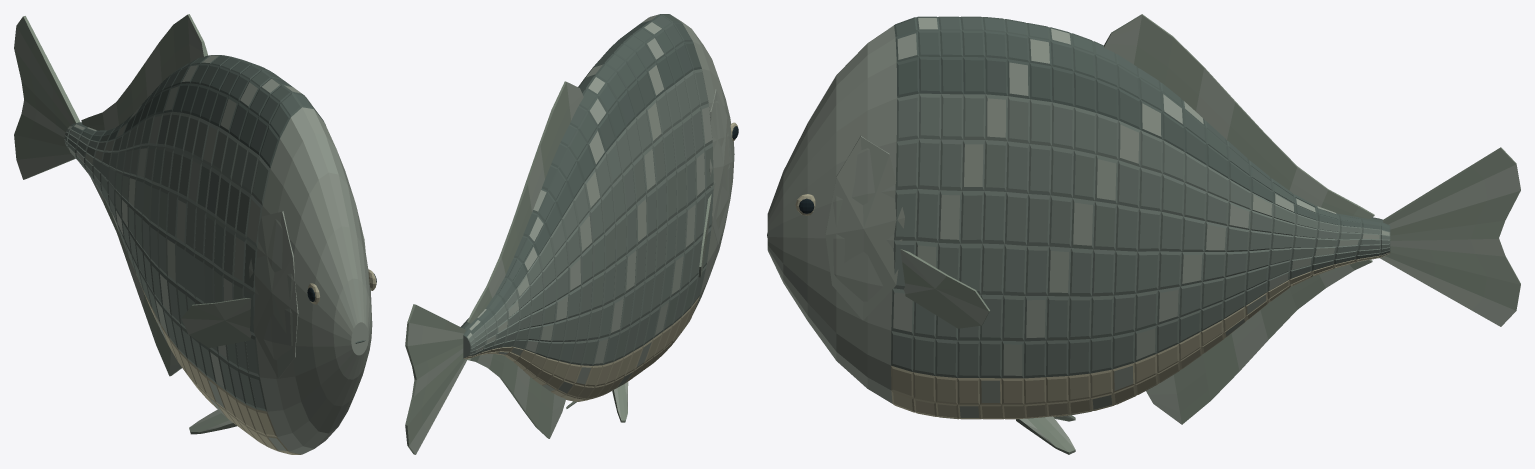
3 views of the same model, side by side, from view 1: azimuth 30°, elevation 25°; view 2: azimuth 150°, elevation 25°; view 3: azimuth 270°, elevation 25° (orthographic). The views are drawn at different scales.
Visible parts, largest first — view 1: 01-continuous-ganoid-body, 04-broad-shallow-notch-caudal-fin, L-opercular-shield, 02-dorsal-seam-fin, L-pectoral-fin, 03-anal-seam-fin, L-small-pelvic-fin; view 2: 01-continuous-ganoid-body, 04-broad-shallow-notch-caudal-fin, 02-dorsal-seam-fin, 03-anal-seam-fin, L-opercular-shield, L-small-pelvic-fin, L-pectoral-fin; view 3: 01-continuous-ganoid-body, 04-broad-shallow-notch-caudal-fin, 02-dorsal-seam-fin, 03-anal-seam-fin, R-opercular-shield, R-pectoral-fin, R-small-pelvic-fin.
Part boxes in pixels (x1,y1,x2,y2): 01-continuous-ganoid-body: (64, 55, 372, 454); 04-broad-shallow-notch-caudal-fin: (14, 16, 80, 179); L-opercular-shield: (249, 211, 298, 378); 02-dorsal-seam-fin: (81, 14, 207, 130); L-pectoral-fin: (181, 298, 251, 347); 03-anal-seam-fin: (91, 178, 181, 376); L-small-pelvic-fin: (189, 409, 236, 434); 01-continuous-ganoid-body: (461, 14, 734, 401); 04-broad-shallow-notch-caudal-fin: (405, 304, 467, 454); 02-dorsal-seam-fin: (467, 81, 583, 323); 03-anal-seam-fin: (467, 354, 565, 438); L-opercular-shield: (709, 89, 732, 244); L-small-pelvic-fin: (612, 381, 628, 422); L-pectoral-fin: (698, 194, 711, 277); 01-continuous-ganoid-body: (767, 16, 1390, 419); 04-broad-shallow-notch-caudal-fin: (1380, 147, 1520, 326); 02-dorsal-seam-fin: (1104, 14, 1374, 218); 03-anal-seam-fin: (1146, 259, 1372, 424); R-opercular-shield: (825, 136, 904, 320); R-pectoral-fin: (900, 249, 989, 328); R-small-pelvic-fin: (1016, 416, 1075, 454).
Bounding box in the file's own units: 0.0882 × 0.2111 × 0.3404.
